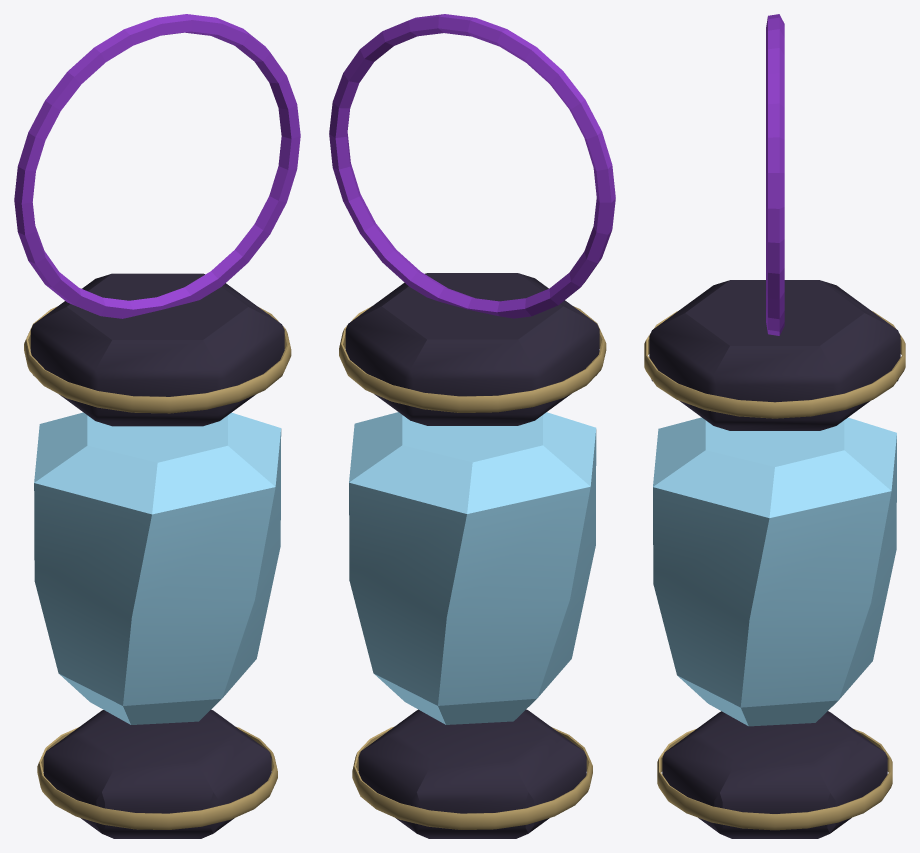
Rendered from Kit_Limb_LeagueCrystal_S.glb.
3 renders of one model, left to right at view 1: azimuth 30°, elevation 25°; view 2: azimuth 150°, elevation 25°; view 3: azimuth 270°, elevation 25°, orthographic.
Visible parts, largest first — view 1: Kit_Limb_LeagueCrystal_S; view 2: Kit_Limb_LeagueCrystal_S; view 3: Kit_Limb_LeagueCrystal_S.
Part boxes in pixels (x1,y1,x2,y2): Kit_Limb_LeagueCrystal_S: (14, 14, 300, 838); Kit_Limb_LeagueCrystal_S: (329, 14, 615, 838); Kit_Limb_LeagueCrystal_S: (644, 14, 905, 838).
Size of the model in its own units: 0.1165 by 0.3118 by 0.0946.
